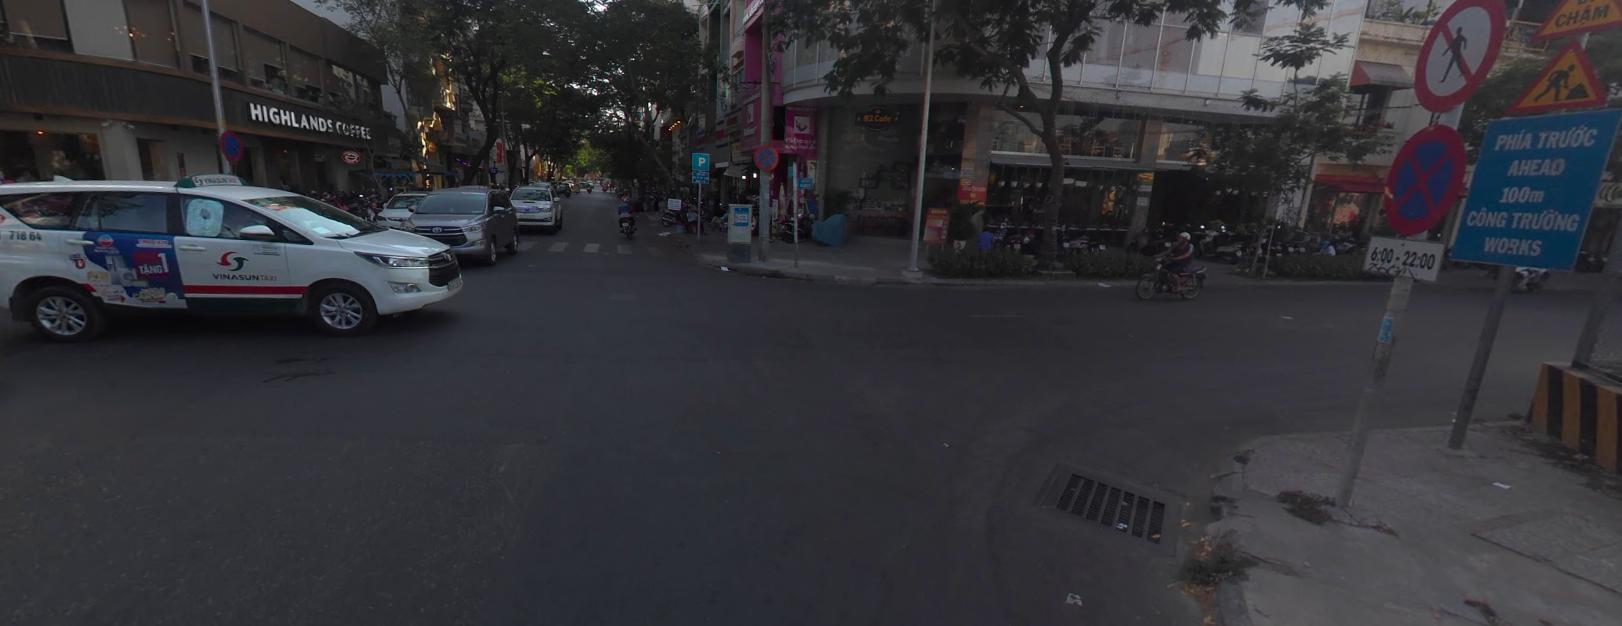Cam con lai: (1410, 0, 1506, 113)
Cam dung va do: (1377, 122, 1467, 232), (219, 128, 244, 160), (753, 142, 779, 168)
Nguy hiem: (1509, 41, 1613, 110), (1522, 0, 1620, 36)
